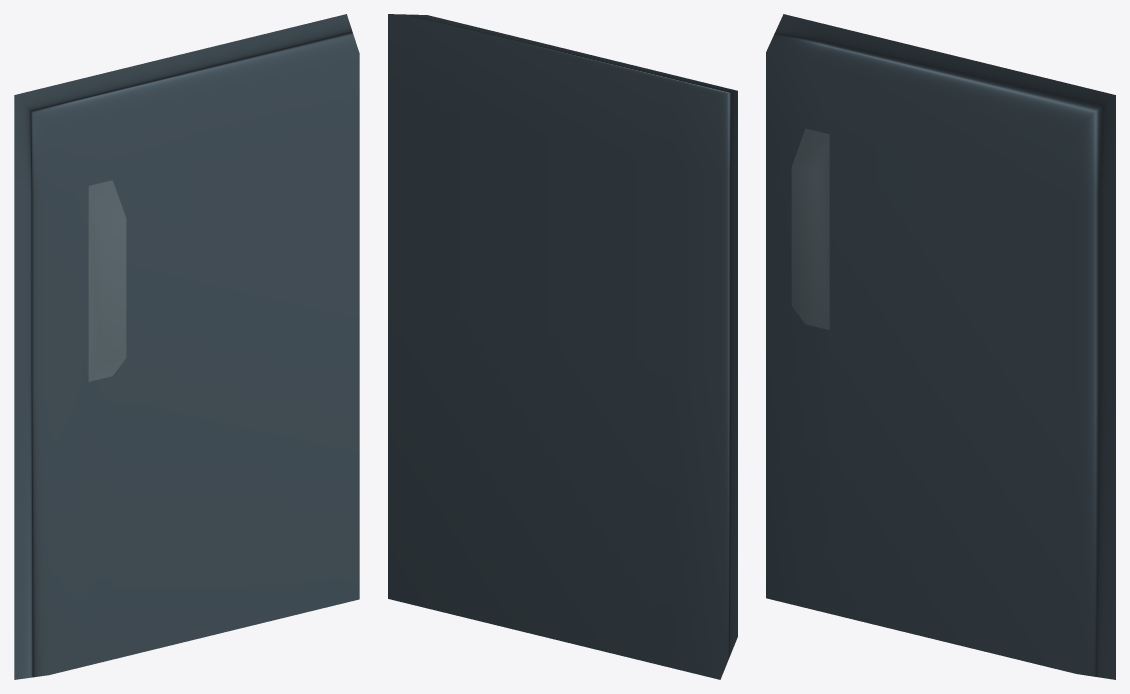
File: VanitySinkDoorRight_Bathroom_V1.fbx
3 views of the same model, side by side, from view 1: azimuth 30°, elevation 25°; view 2: azimuth 150°, elevation 25°; view 3: azimuth 330°, elevation 25° (orthographic).
Parts seen in each view (by area): view 1: Cube; view 2: Cube; view 3: Cube.
Boxes of the visible parts, <box> form: Cube: <box>14,14,359,679</box>; Cube: <box>388,14,737,679</box>; Cube: <box>766,14,1115,679</box>.
Bounding box in the file's own units: 40.63 × 68.33 × 8.44.
